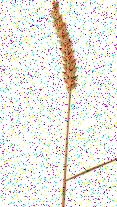wheat: (45, 1, 79, 90)
